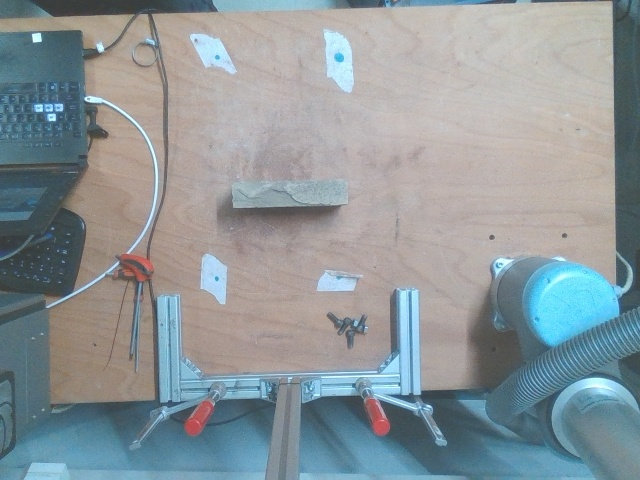brick-side: (232, 180, 346, 205)
